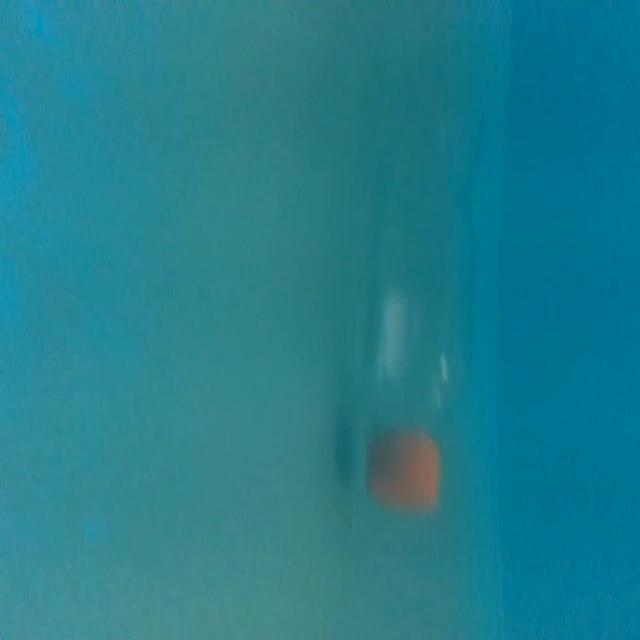plastic bottle: (343, 78, 488, 522)
